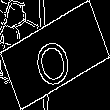O_NW: (31, 23, 79, 87)
